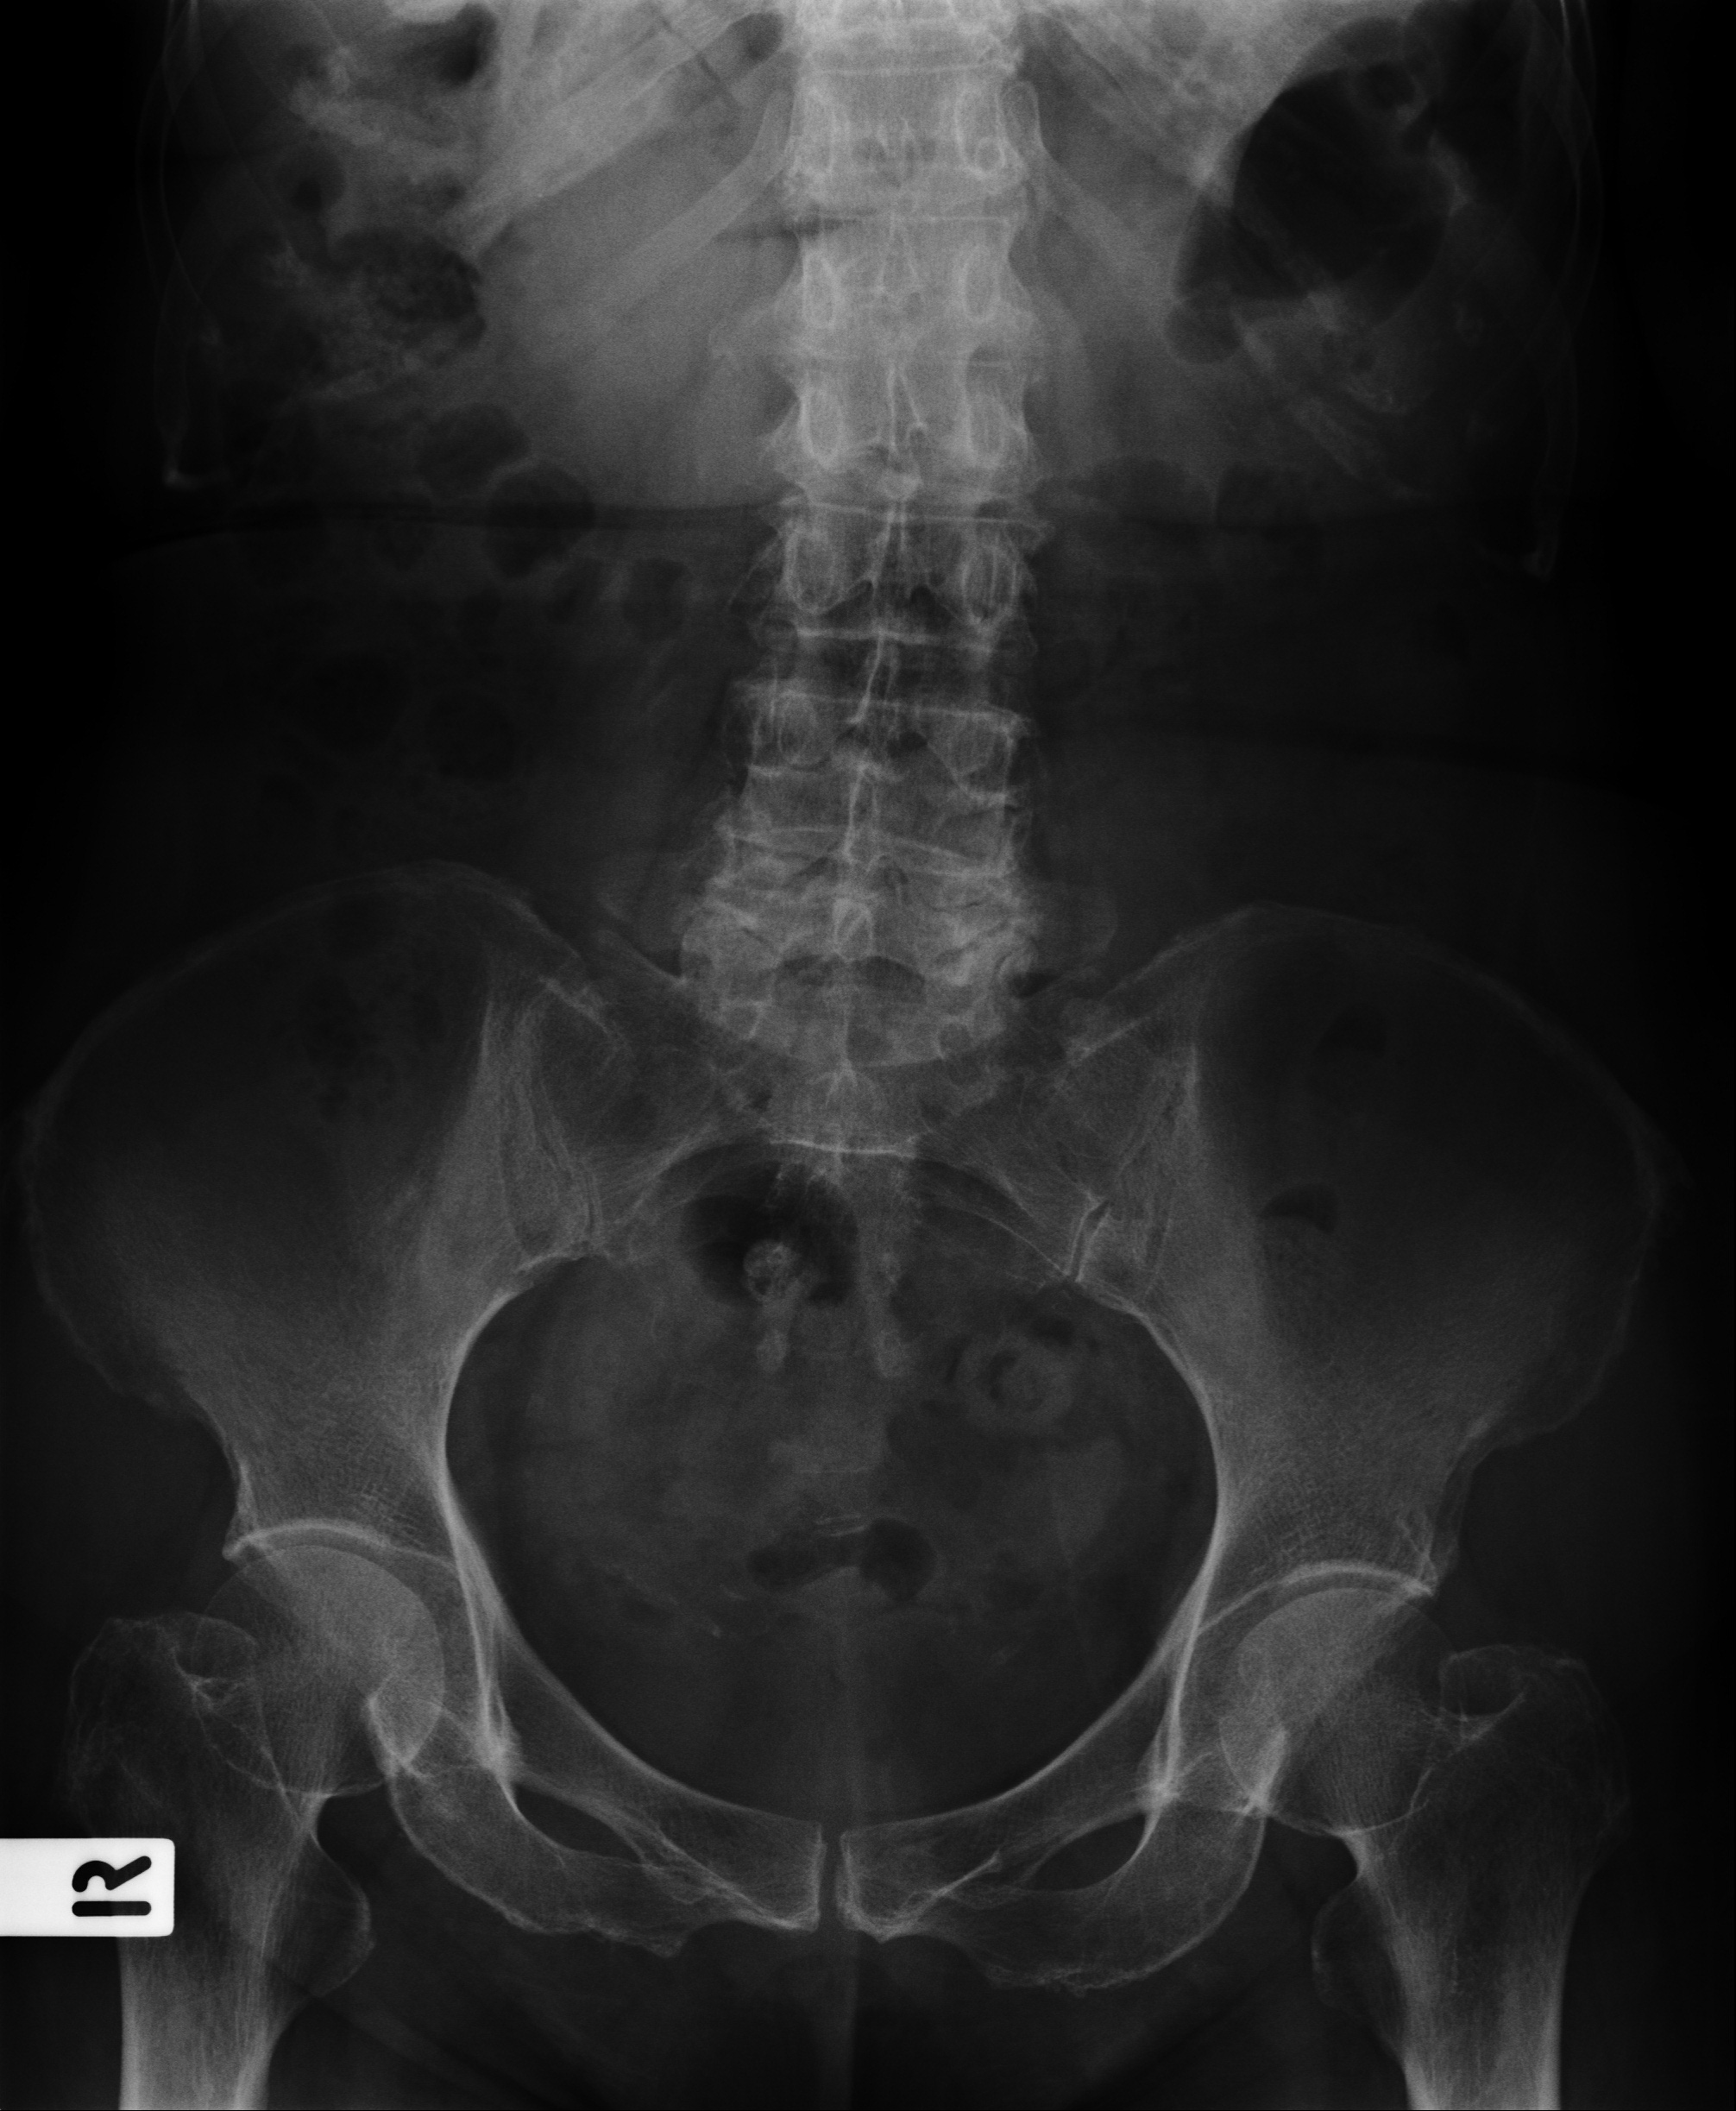lumbar scoliosis: (701, 14, 1059, 1150)
